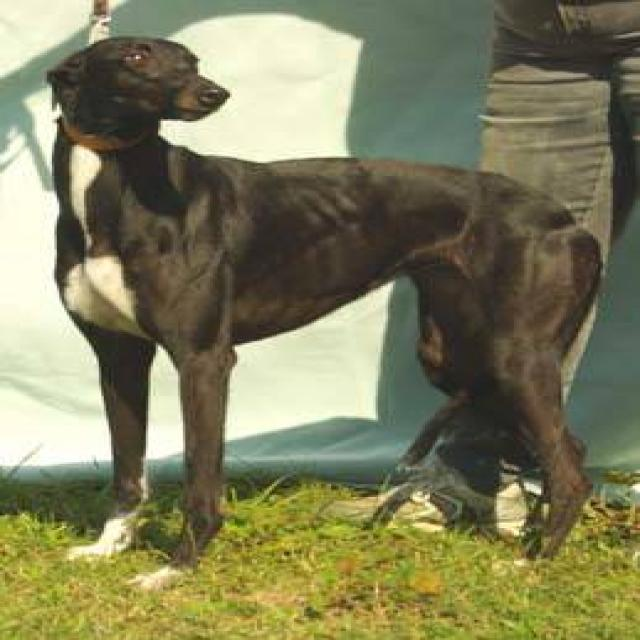relax: (48, 24, 632, 554)
